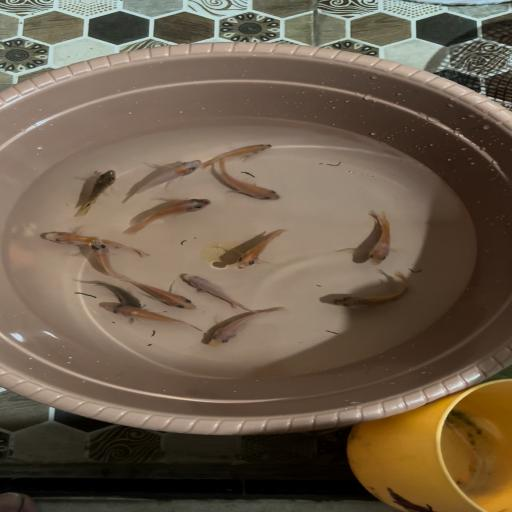nila: (88, 300, 210, 336), (114, 155, 206, 202), (319, 270, 417, 312), (200, 302, 289, 348), (116, 196, 216, 234), (36, 227, 156, 258), (210, 158, 293, 202), (61, 166, 121, 223), (219, 227, 295, 271), (181, 271, 260, 313), (117, 276, 201, 311), (76, 239, 141, 283), (354, 208, 400, 268), (198, 138, 275, 172), (76, 277, 140, 313)
